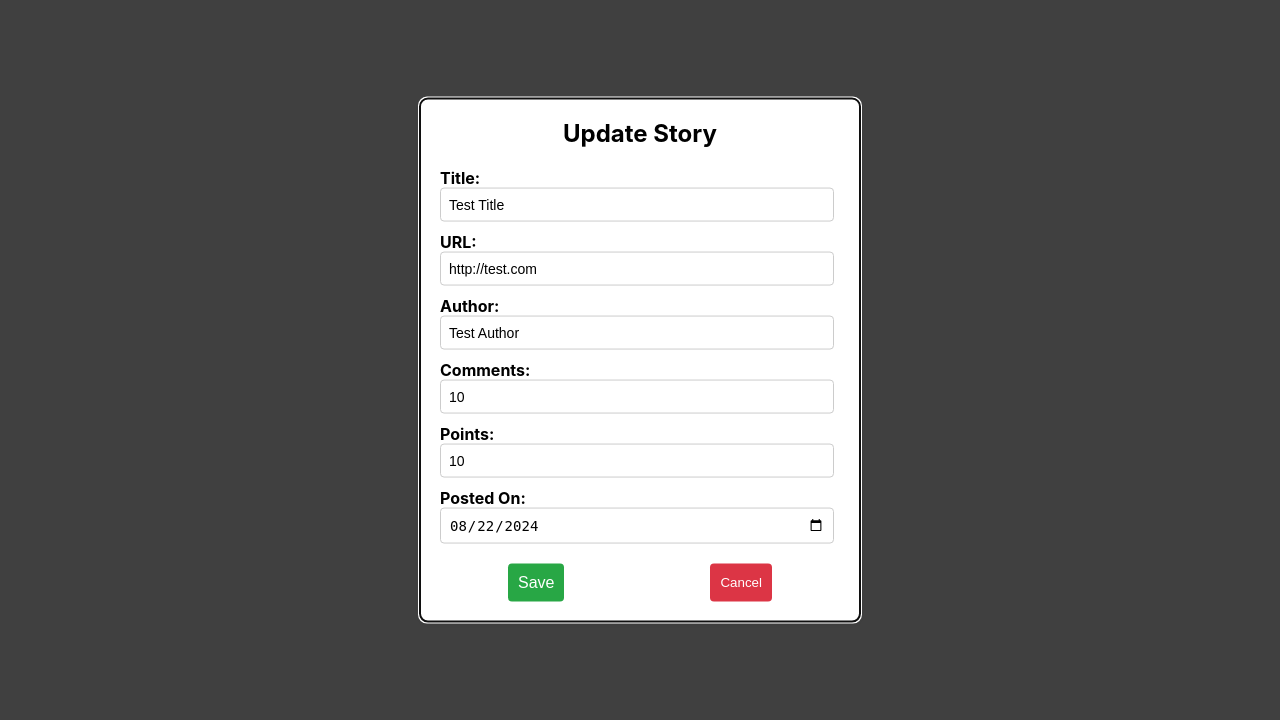
Test: verify the validatations of StoryUpdateModal
Clear the field labelled "Title:". click: (637, 204)
box: left=440, top=188, right=834, bottom=222
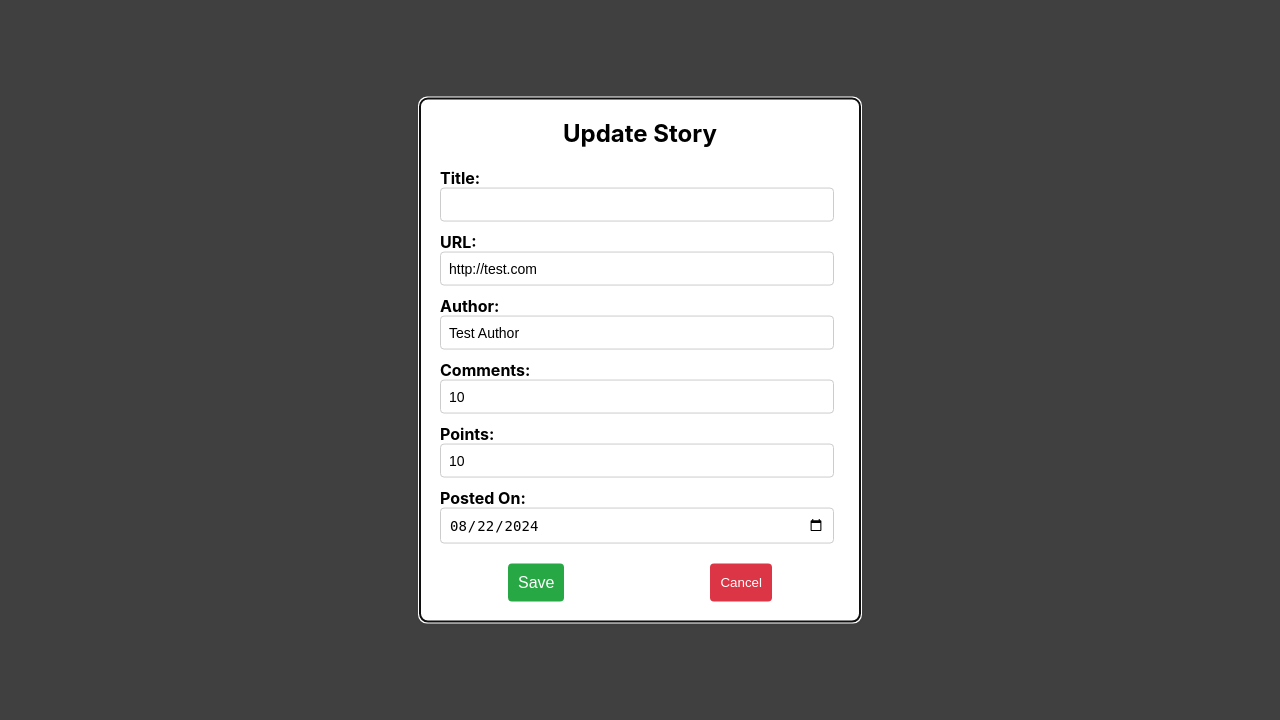
Clear the field labelled "URL:". click: (637, 268)
box: left=440, top=252, right=834, bottom=286
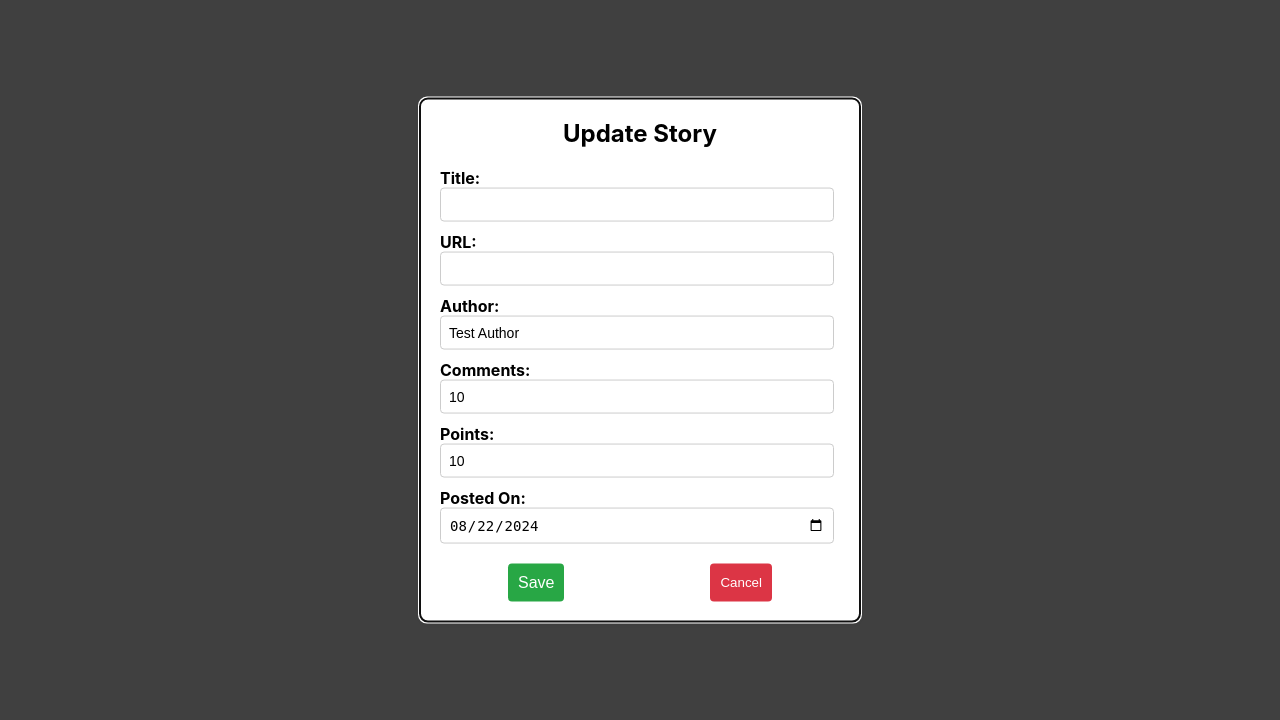
Clear the field labelled "Author:". click: (637, 332)
box: left=440, top=316, right=834, bottom=350
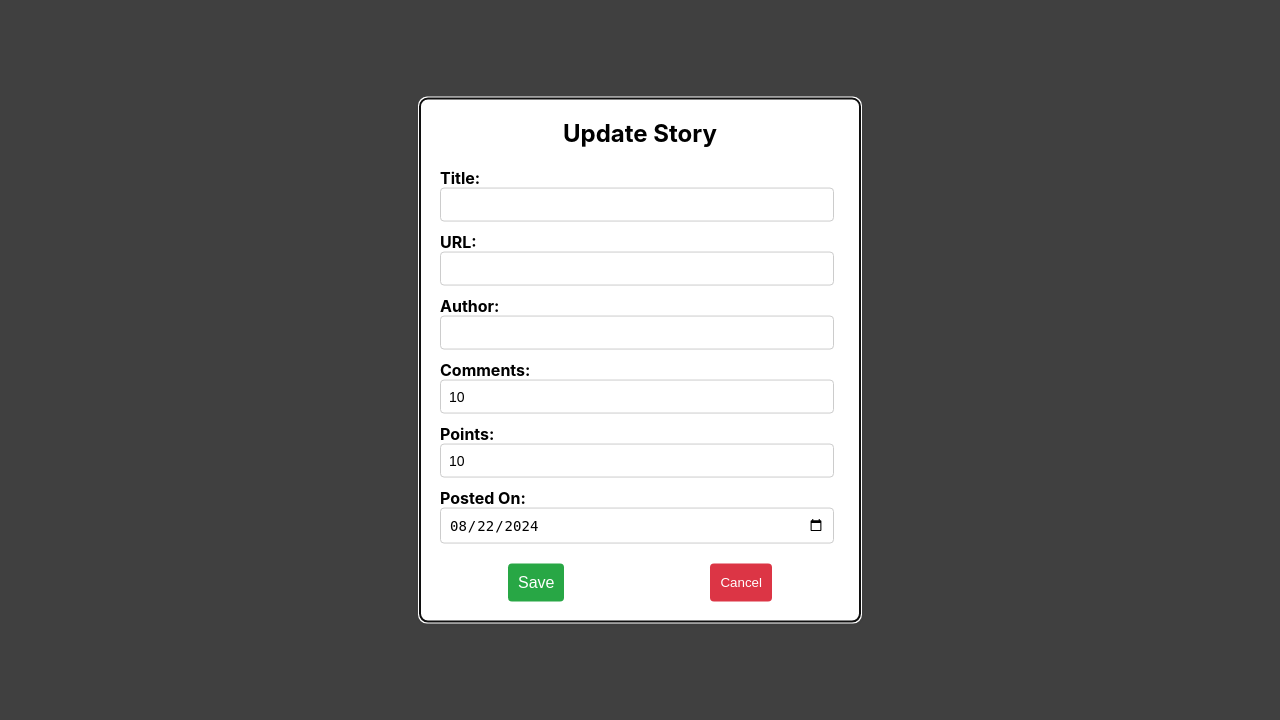
Clear the field labelled "Comments:". click: (637, 396)
box: left=440, top=380, right=834, bottom=414
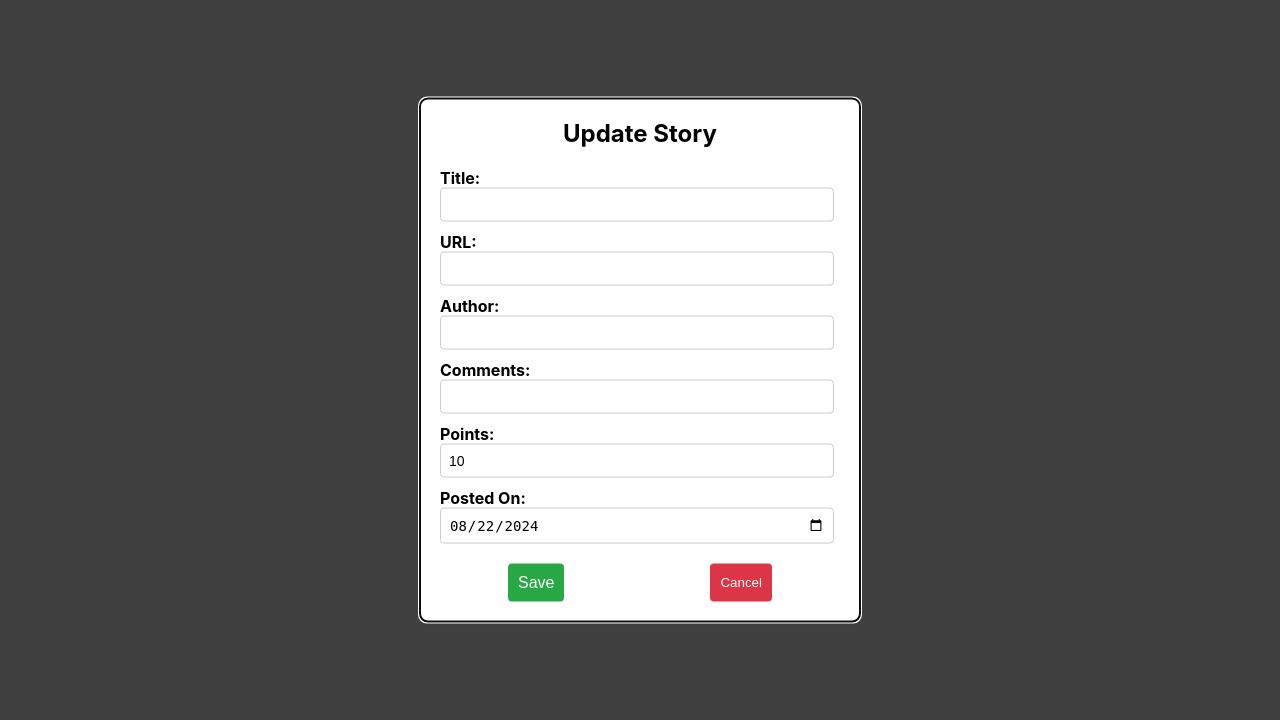
Clear the field labelled "Points:". click: (637, 460)
box: left=440, top=444, right=834, bottom=478
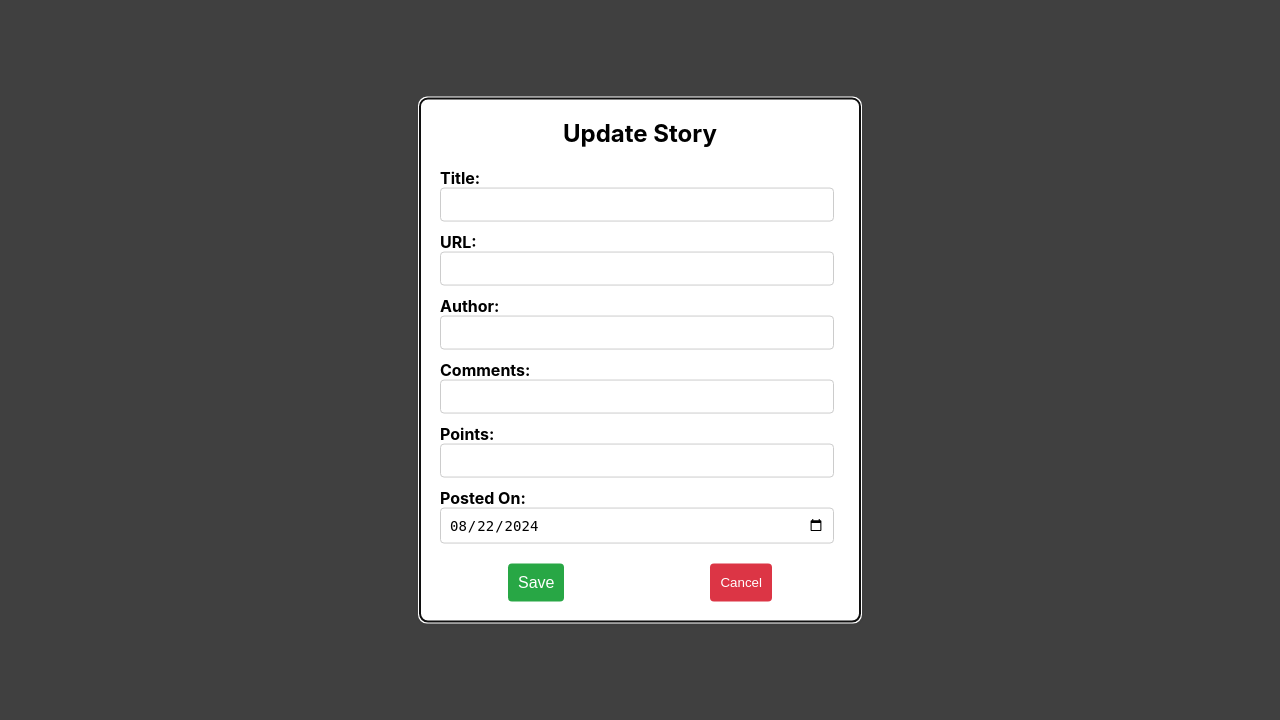
Click the button "Save". click: (536, 582)
box: left=508, top=564, right=564, bottom=602
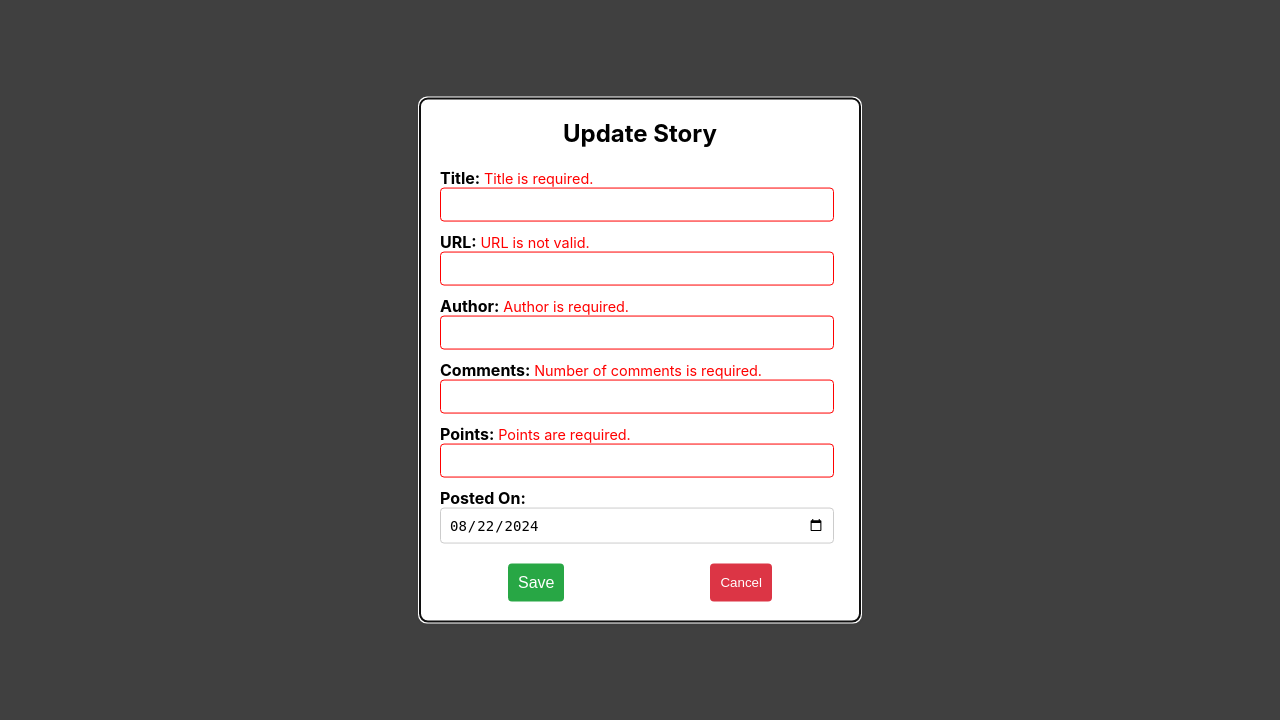
Result: the text "Title is required." is shown at left=484, top=170, right=593, bottom=186
Result: the text "URL is not valid." is shown at left=480, top=234, right=590, bottom=250
Result: the text "Author is required." is shown at left=503, top=298, right=629, bottom=314
